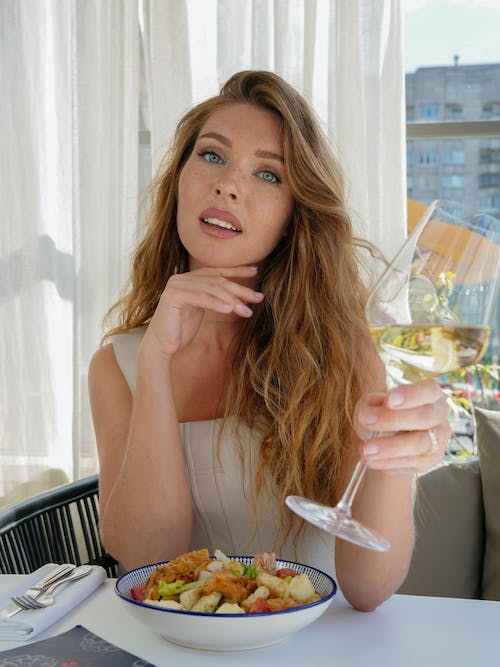alcohol: (283, 198, 500, 553)
